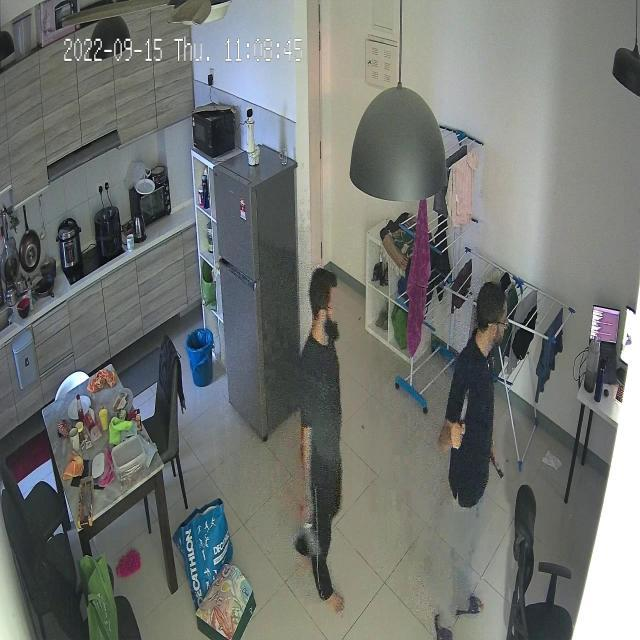Knife: (292, 498, 336, 562), (454, 382, 484, 436)
